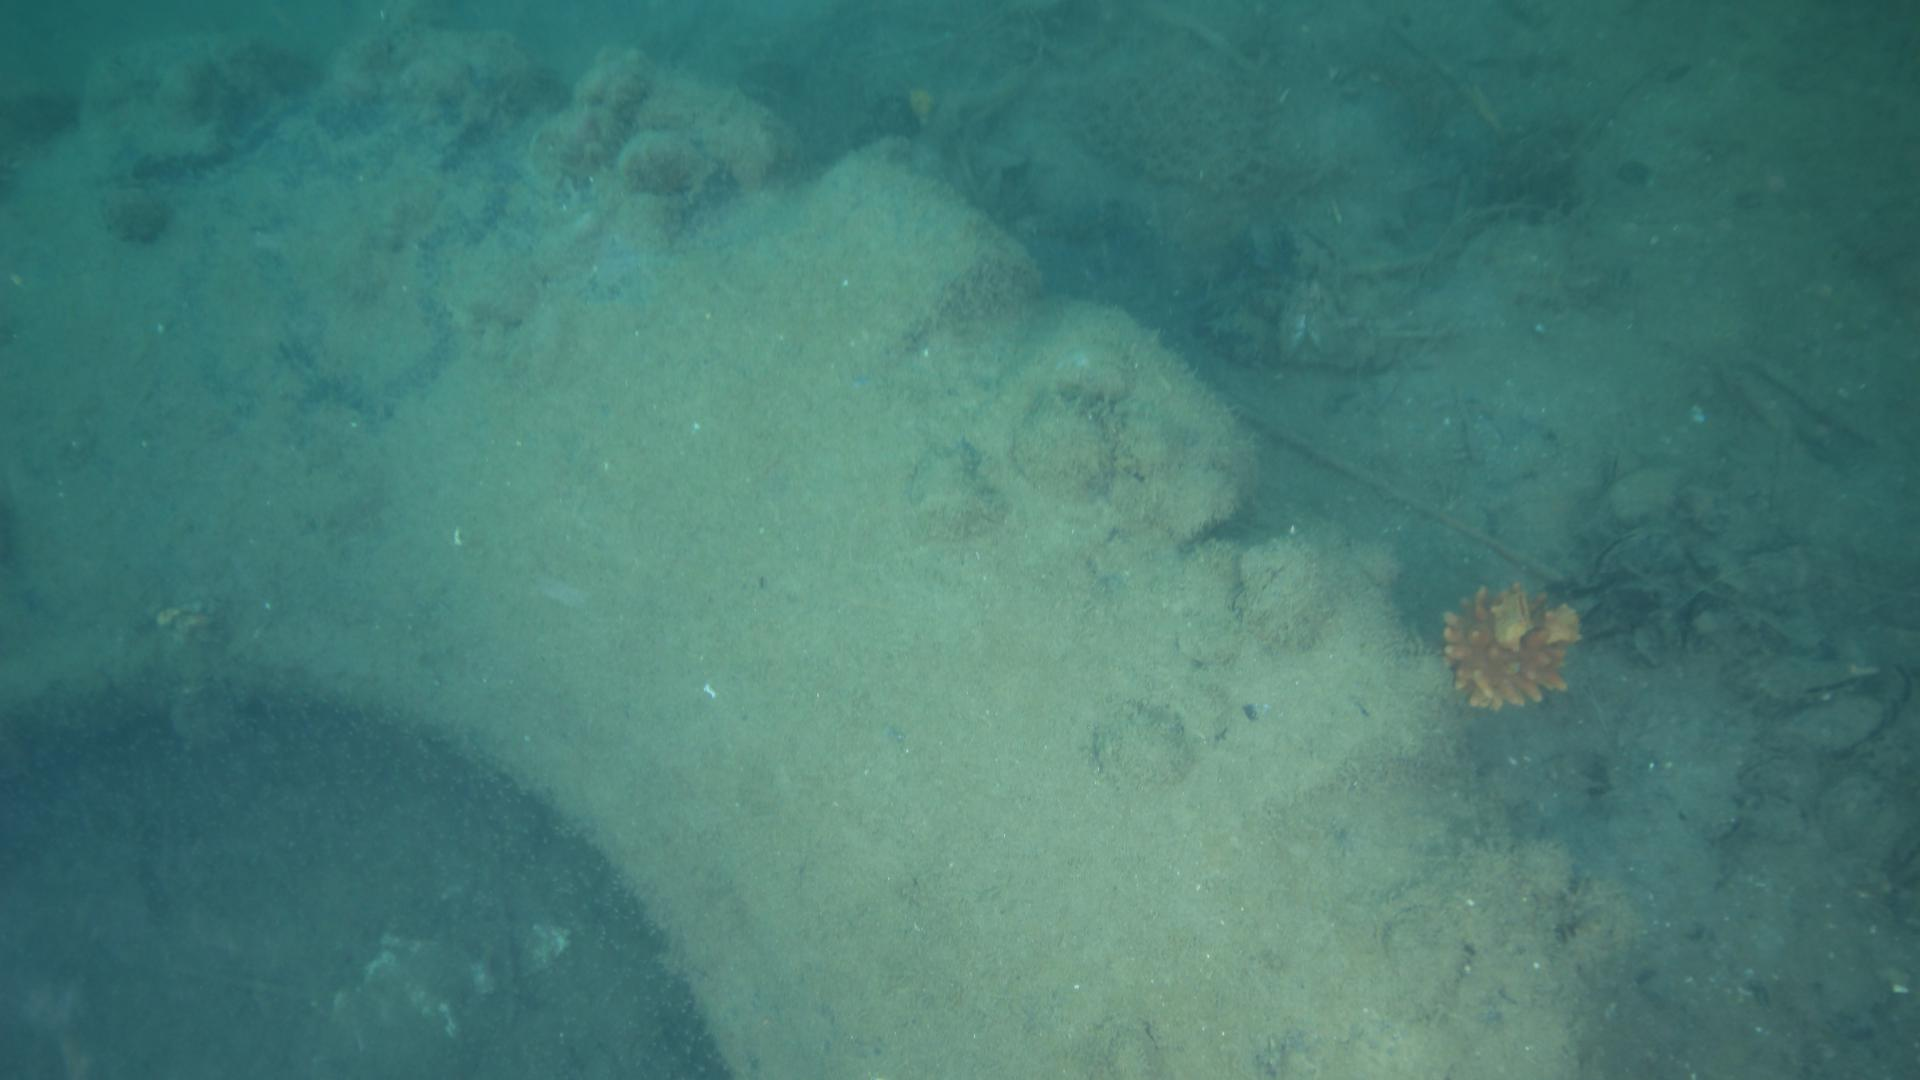tire: (3, 30, 1582, 1080)
